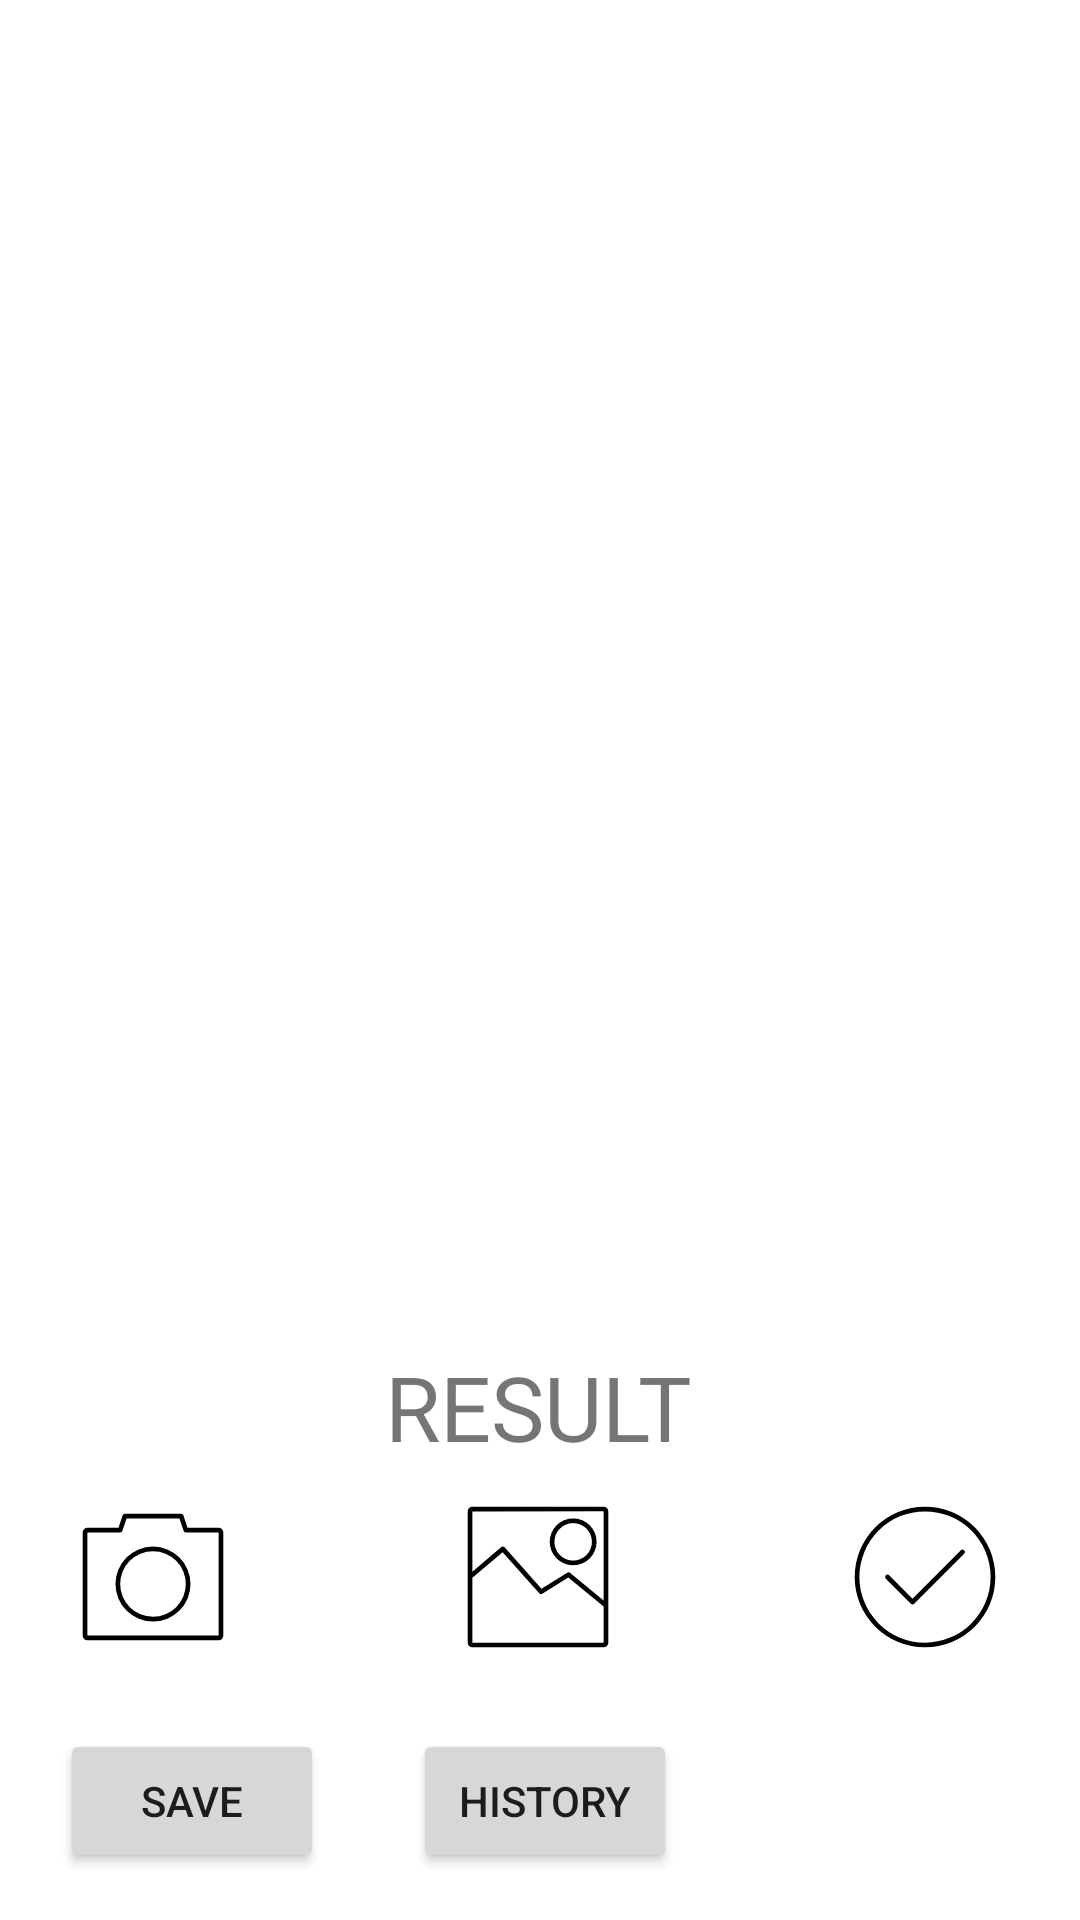

Icon click points for this 1080px×1920px phone screenshot, format (x,y):
camera: (153,1577)
gallery: (538,1577)
